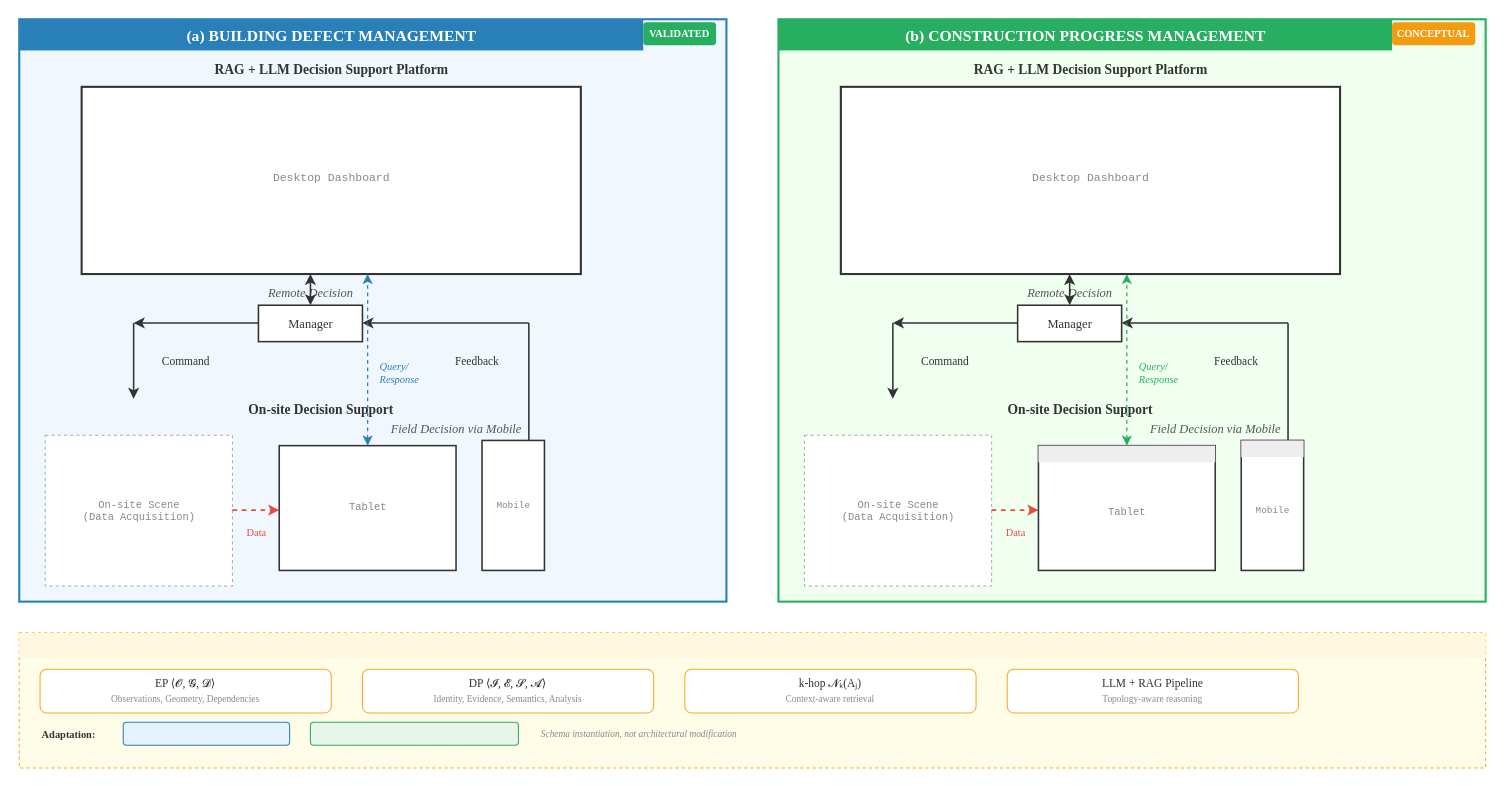
Some shapes in this 1504 by 786 pixel diagram are drawn without their labels. The shapes that lost their labels are listed below. From the top down, each one's centre as x and y in pixels, then its label:
the point at 1126,453: (e) Tablet
the point at 1272,448: (f) Mobile
the point at 752,644: Framework Transfer: Invariant Core Components
the point at 206,733: Defect: IDP→IAP, BIM
the point at 413,733: Construction: WDP→WZP, Schedule
